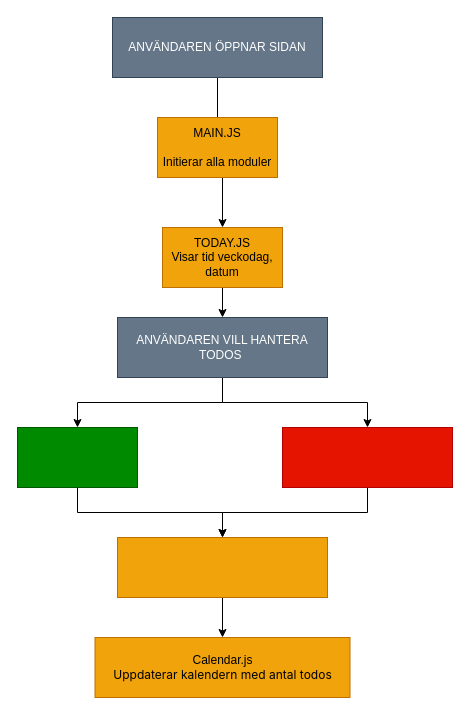
Some shapes in this 470 by 715 pixel diagram are drawn without their labels. The box of each missing label's shape, as (x1, y1, x2, y2) in pixels:
Lägg till todo Titel + välj datum: (16, 426, 138, 488)
Ta bort todo Klicka på ta bort-knapp: (282, 426, 452, 488)
Todos.js Uppdaterar todo-listan: (116, 536, 328, 598)
